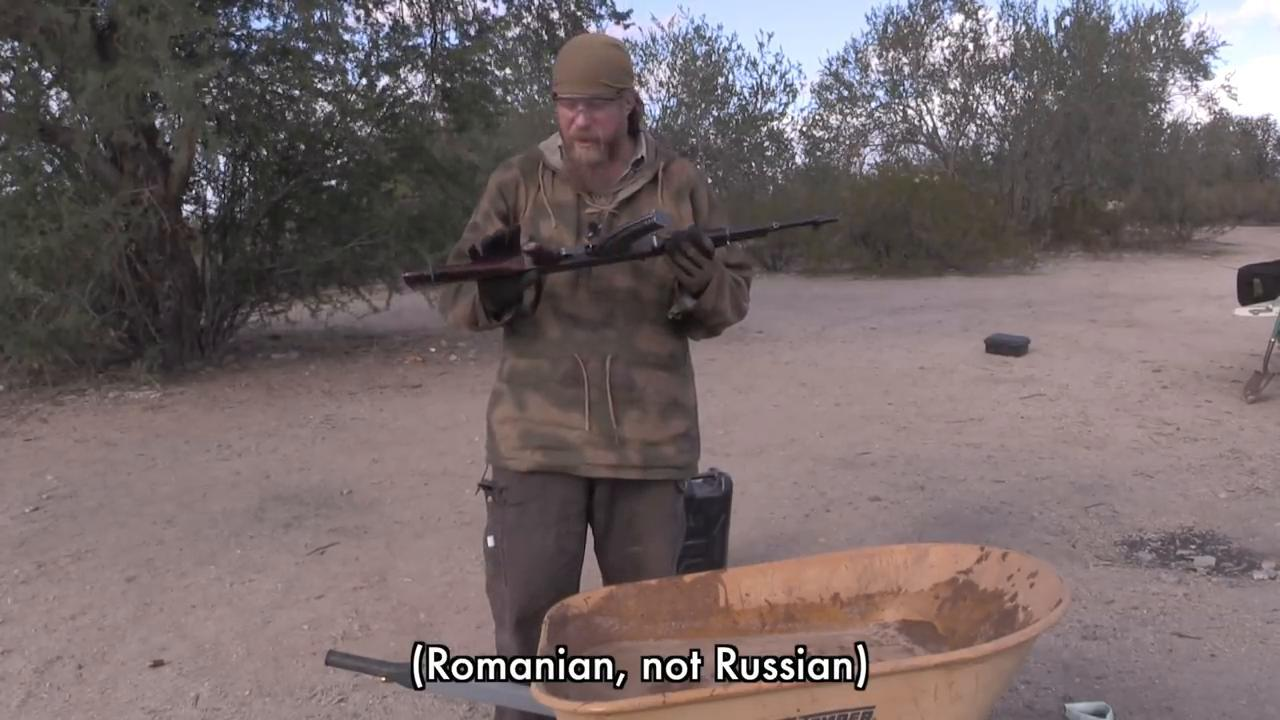AK47 Rifle: (400, 207, 841, 281)
